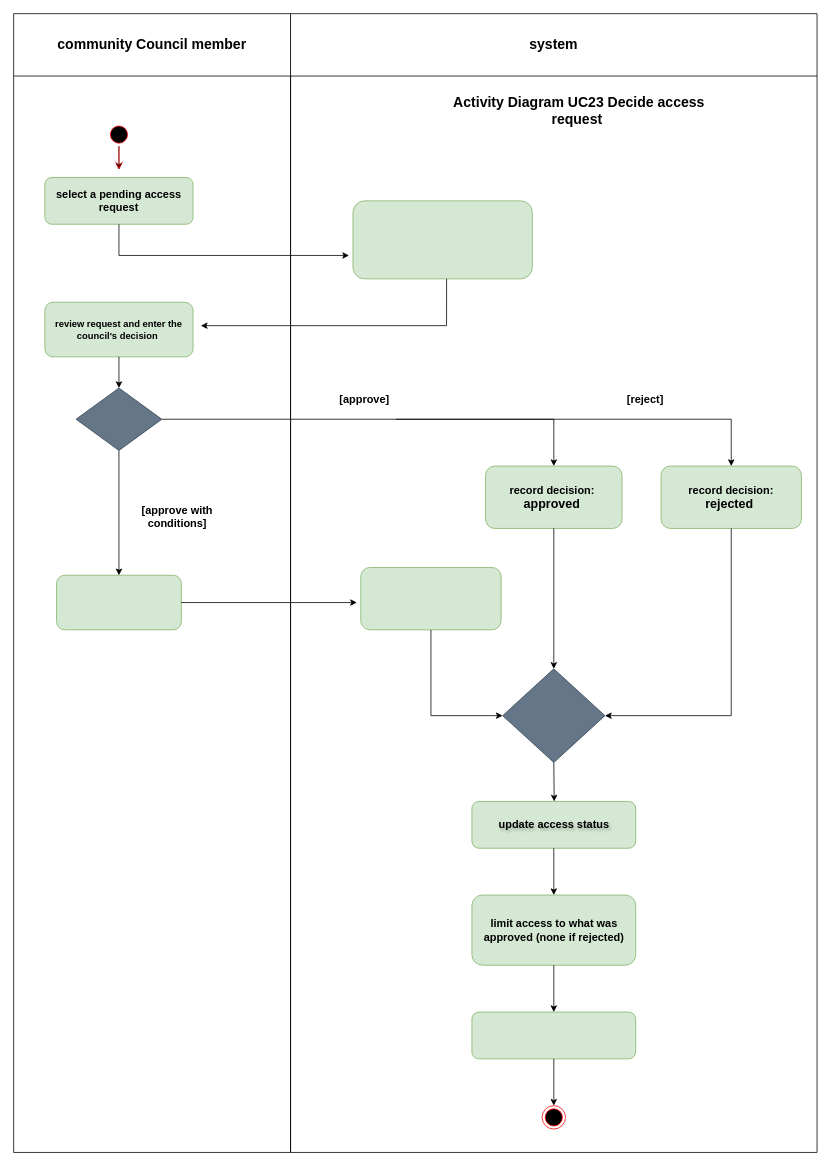
The diagram is 831 pixels wide and 1166 high, and some of its shapes have lost their labels. Each missing label, with the box of its shape:
enter the conditions: (56, 574, 181, 630)
record decision and conditions: (360, 567, 501, 630)
show confirmation: (471, 1011, 636, 1059)
show request details (researcher, institution, recordings, research purpose): (352, 200, 532, 279)
